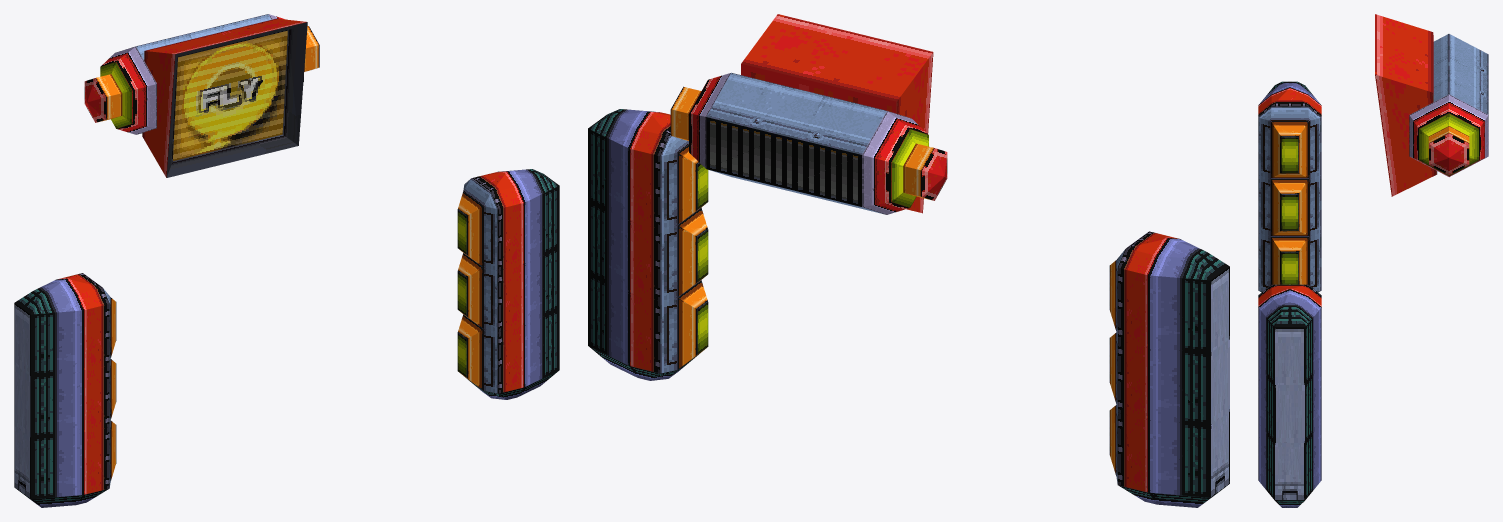
Rendered from change_fly.obj.
3 views of the same model, side by side, from view 1: azimuth 30°, elevation 25°; view 2: azimuth 150°, elevation 25°; view 3: azimuth 270°, elevation 25° (orthographic). The views are drawn at different scales.
Visible parts, largest first — view 1: Object_2, Object_6, Object_4, Object_3, Object_1; view 2: Object_2, Object_6, Object_4, Object_3, Object_1; view 3: Object_2, Object_4, Object_6, Object_5, Object_1.
Boxes of the visible parts, left/top/right/bottom form: Object_2: left=84, top=14, right=319, bottom=177; Object_6: left=14, top=273, right=116, bottom=507; Object_4: left=457, top=169, right=559, bottom=399; Object_3: left=457, top=210, right=466, bottom=377; Object_1: left=100, top=62, right=131, bottom=128; Object_2: left=670, top=14, right=947, bottom=214; Object_6: left=1109, top=231, right=1229, bottom=507; Object_4: left=588, top=109, right=707, bottom=380; Object_3: left=697, top=163, right=708, bottom=353; Object_1: left=891, top=129, right=928, bottom=207; Object_2: left=1375, top=14, right=1488, bottom=196; Object_4: left=1258, top=284, right=1321, bottom=507; Object_6: left=1258, top=81, right=1321, bottom=292; Object_5: left=1281, top=137, right=1298, bottom=284; Object_1: left=1419, top=113, right=1478, bottom=175.
Bounding box in the file's own units: 72 × 48.49 × 28.97.
